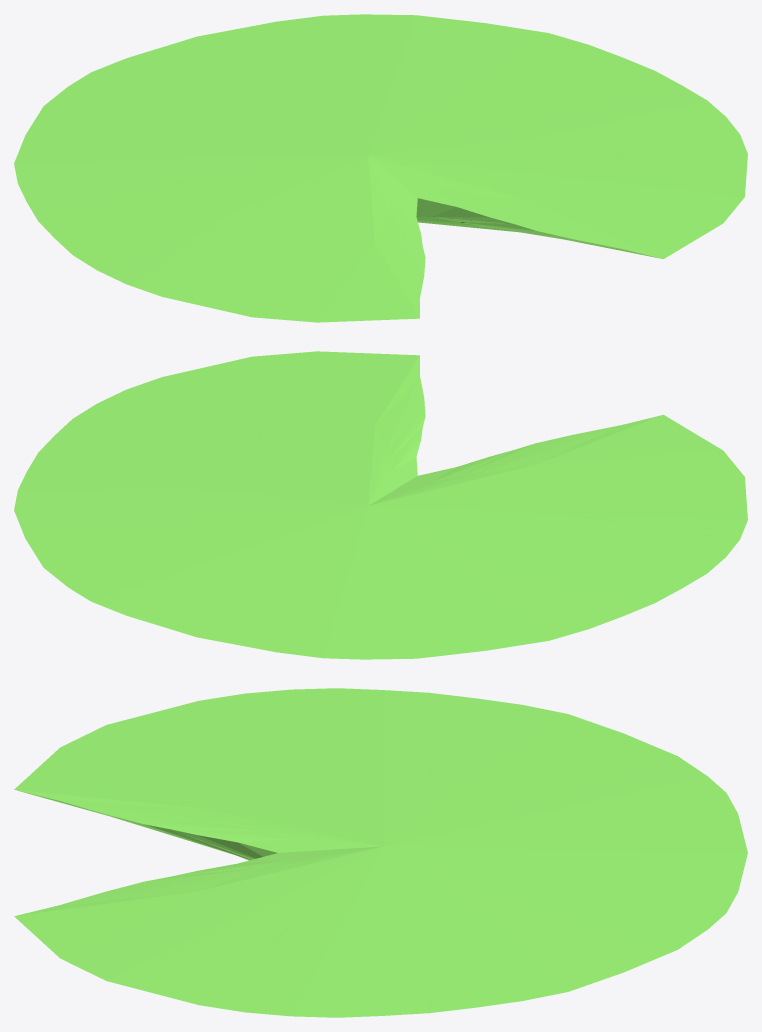
The model's file is Lilypad.obj.
3 views of the same model, one above another, from view 1: azimuth 30°, elevation 25°; view 2: azimuth 150°, elevation 25°; view 3: azimuth 270°, elevation 25° (orthographic). The views are drawn at different scales.
Parts seen in each view (by area): view 1: Cube; view 2: Cube; view 3: Cube.
Part boxes in pixels (x1,y1,x2,y2): Cube: (14,14,747,322); Cube: (14,351,747,659); Cube: (14,688,747,1017).
Size of the model in its own units: 2.11 by 0.1967 by 1.99.
Materials: 1 (1 with a texture image).
